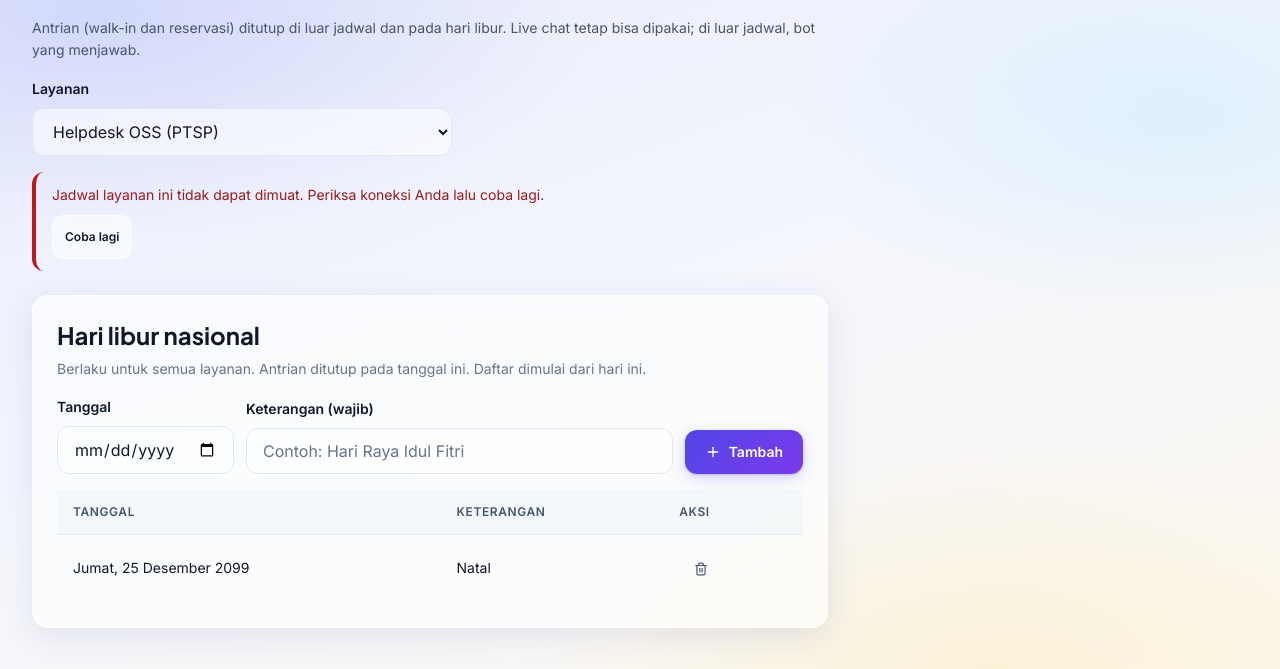
Test: admin jadwal: jadwal_standby + hari libur nasional › gagal memuat jadwal -> galat + tanpa editor/tombol simpan; "Coba lagi" memuat ulang
expect the text "Jadwal layanan ini tidak dapat dimuat" is shown: met, box top-left (52, 186), bottom-right (544, 203)
expect the button "Simpan jadwal" is not shown: met
Click the button "Coba lagi".
click(92, 237)  # box top-left (52, 215), bottom-right (132, 259)
(page scrolled)
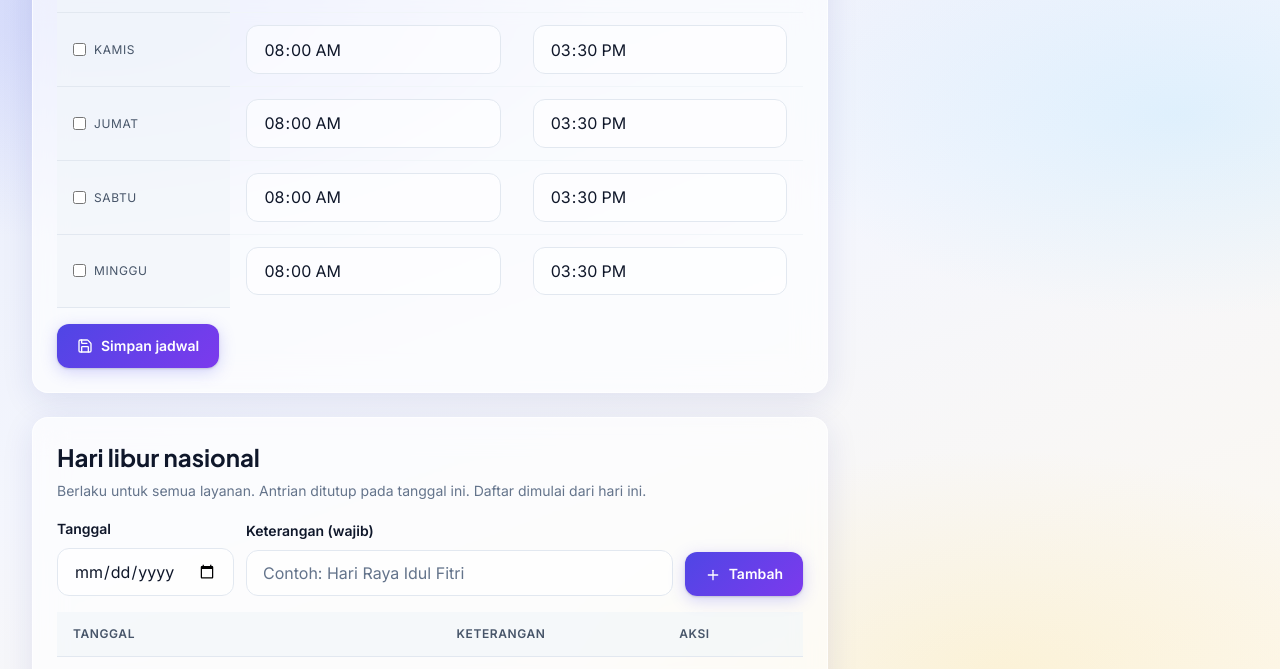
expect the button "Simpan jadwal" is shown: met, box top-left (57, 324), bottom-right (219, 368)
expect the text "Jadwal layanan ini tidak dapat dimuat" is gone: met
